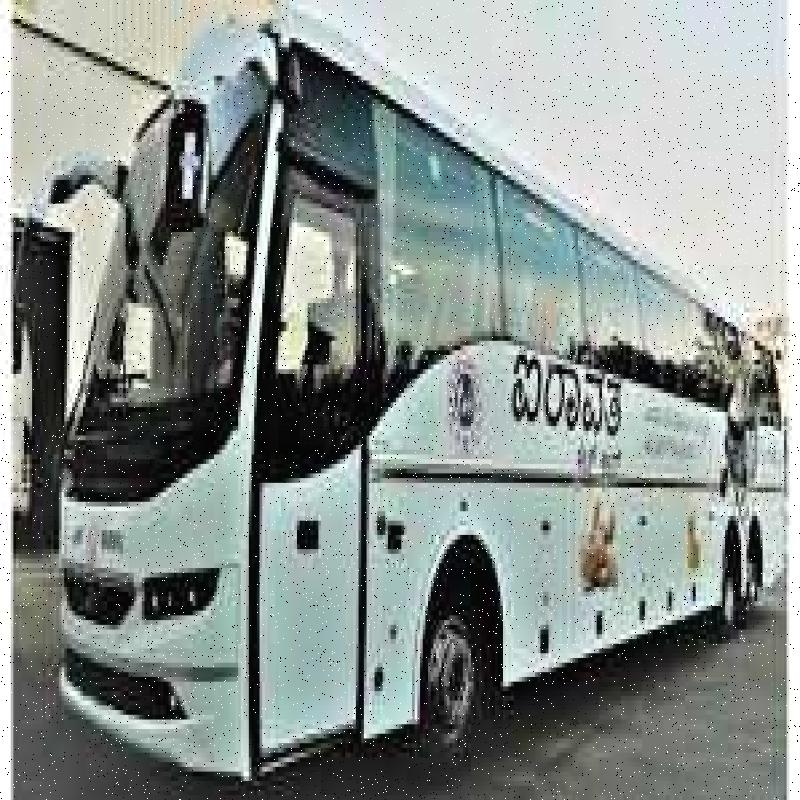bus: (39, 7, 795, 747)
